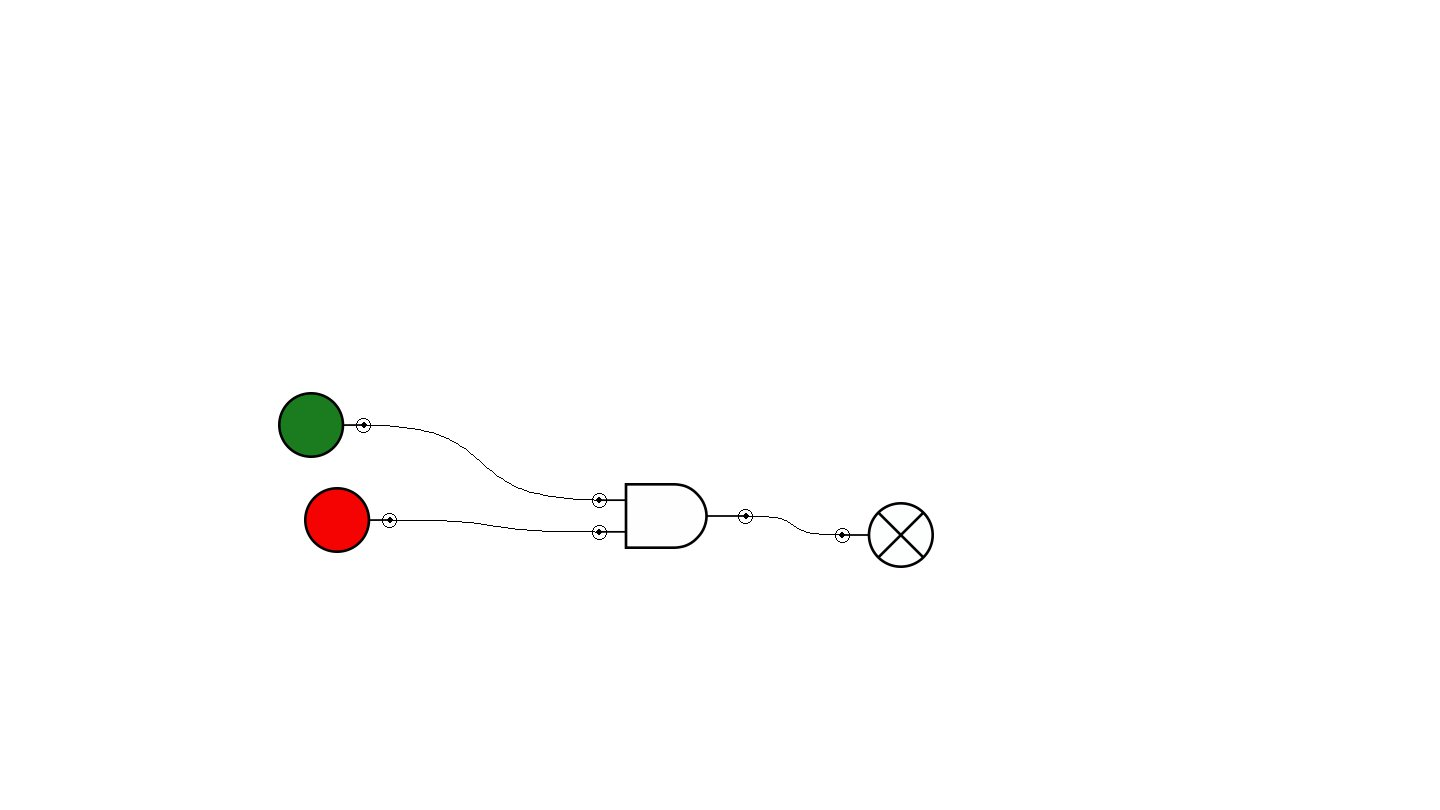and: (592, 483, 753, 549)
bulb: (835, 502, 934, 568)
switch_False: (304, 487, 397, 553)
switch_True: (278, 392, 371, 458)
